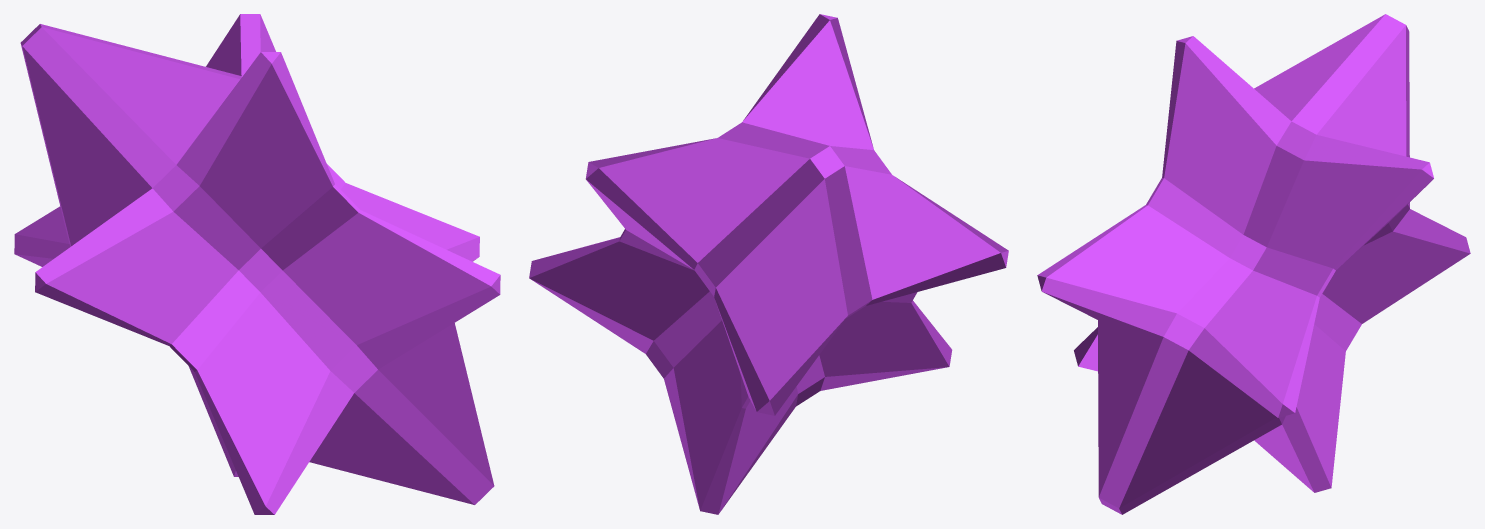
The picture shows the model from 3 angles, left to right: view 1: azimuth 30°, elevation 25°; view 2: azimuth 150°, elevation 25°; view 3: azimuth 270°, elevation 25°; orthographic projection. The views are drawn at different scales.
Parts seen in each view (by area): view 1: Cube; view 2: Cube; view 3: Cube.
Part boxes in pixels (x1,y1,x2,y2): Cube: (14, 14, 500, 514); Cube: (529, 14, 1008, 514); Cube: (1037, 14, 1470, 514).
Size of the model in its own units: 4.22 by 4.15 by 3.78.
